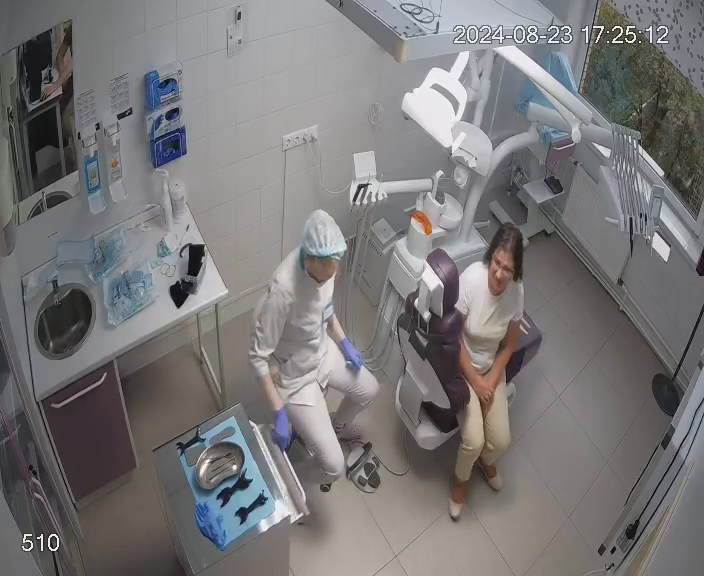Empty: (391, 218, 544, 519)
